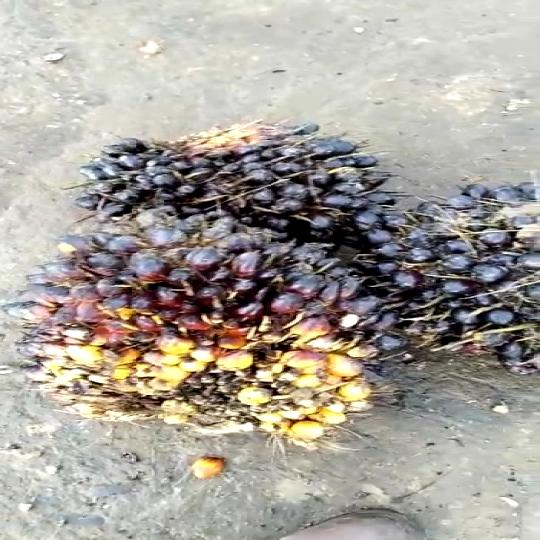mentah: (7, 120, 540, 453)
